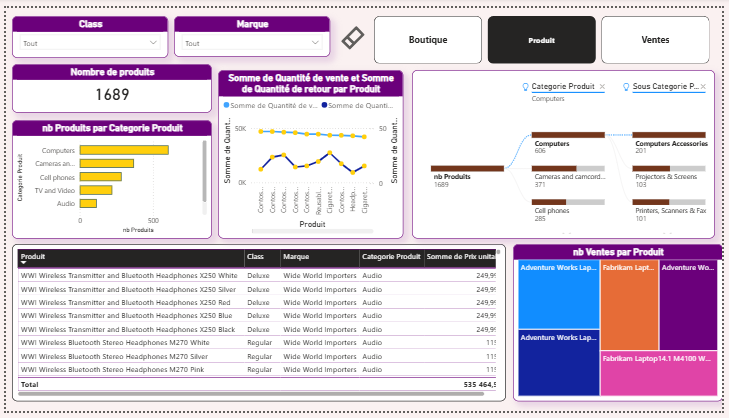

The page's visual inventory and layout, read from the dashboard file:
{"tool":"powerbi","page":{"name":"Produit","canvas":[1280,720],"ordinal":1},"visuals":[{"type":"slicer","title":"Class","fields":{"Values":["Produits.Class"]},"box":[10.3,14.7,279.2,74.9],"z":0},{"type":"slicer","title":"Marque","fields":{"Values":["Produits.Marque"]},"box":[299.8,14.7,279.2,73.5],"z":1000},{"type":"barChart","fields":{"Y":["Produits.nb Produits"],"Category":["Categorie Produits.Categorie Produit"]},"box":[10.3,199.8,357.1,211.6],"z":2000},{"type":"tableEx","fields":{"Values":["Produits.Produit","Produits.Class","Produits.Marque","Categorie Produits.Categorie Produit","Sum(Produits.Prix unitaire)"]},"box":[10.3,421.7,881.6,280.7],"z":3000},{"type":"card","title":"Nombre de produits","fields":{"Values":["Produits.nb Produits"]},"box":[10.3,99.9,357.1,86.7],"z":4000},{"type":"lineChart","fields":{"Category":["Produits.Produit"],"Y":["Sum(Sales.Quantité de vente)"],"Y2":["Sum(Sales.Quantité de retour)"]},"box":[379.1,110.2,330.6,301.2],"z":5000},{"type":"decompositionTreeVisual","fields":{"Analyze":["Produits.nb Produits"],"ExplainBy":["Categorie Produits.Categorie Produit","Sous Categories Produits.Sous Categorie Produit"]},"box":[725.9,110.2,540.7,301.2],"z":6000},{"type":"treemap","fields":{"Group":["Produits.Produit"],"Values":["Sales.nb Ventes"]},"box":[905.1,421.7,374.7,280.7],"z":7000},{"type":"pageNavigator","box":[656.8,14.7,599.5,85.2],"z":8000},{"type":"actionButton","box":[595.1,27.9,61.7,50],"z":9000}]}

Visuals, with their boxes in screenshot pixels (x1, y1, x2, y2), scaled from the page's 1280x720 canvas onto the 729x418 screenshot:
"Class" slicer: <box>6,9,165,52</box>
"Marque" slicer: <box>171,9,330,51</box>
barChart - Produits.nb Produits x Categorie Produits.Categorie Produit: <box>6,116,209,239</box>
tableEx - Produits.Produit x Produits.Class: <box>6,245,508,408</box>
"Nombre de produits" card: <box>6,58,209,108</box>
lineChart - Produits.Produit x Sum(Sales.Quantité de vente): <box>216,64,404,239</box>
decompositionTreeVisual - Produits.nb Produits x Categorie Produits.Categorie Produit: <box>413,64,721,239</box>
treemap - Produits.Produit x Sales.nb Ventes: <box>515,245,728,408</box>
pageNavigator: <box>374,9,716,58</box>
actionButton: <box>339,16,374,45</box>
